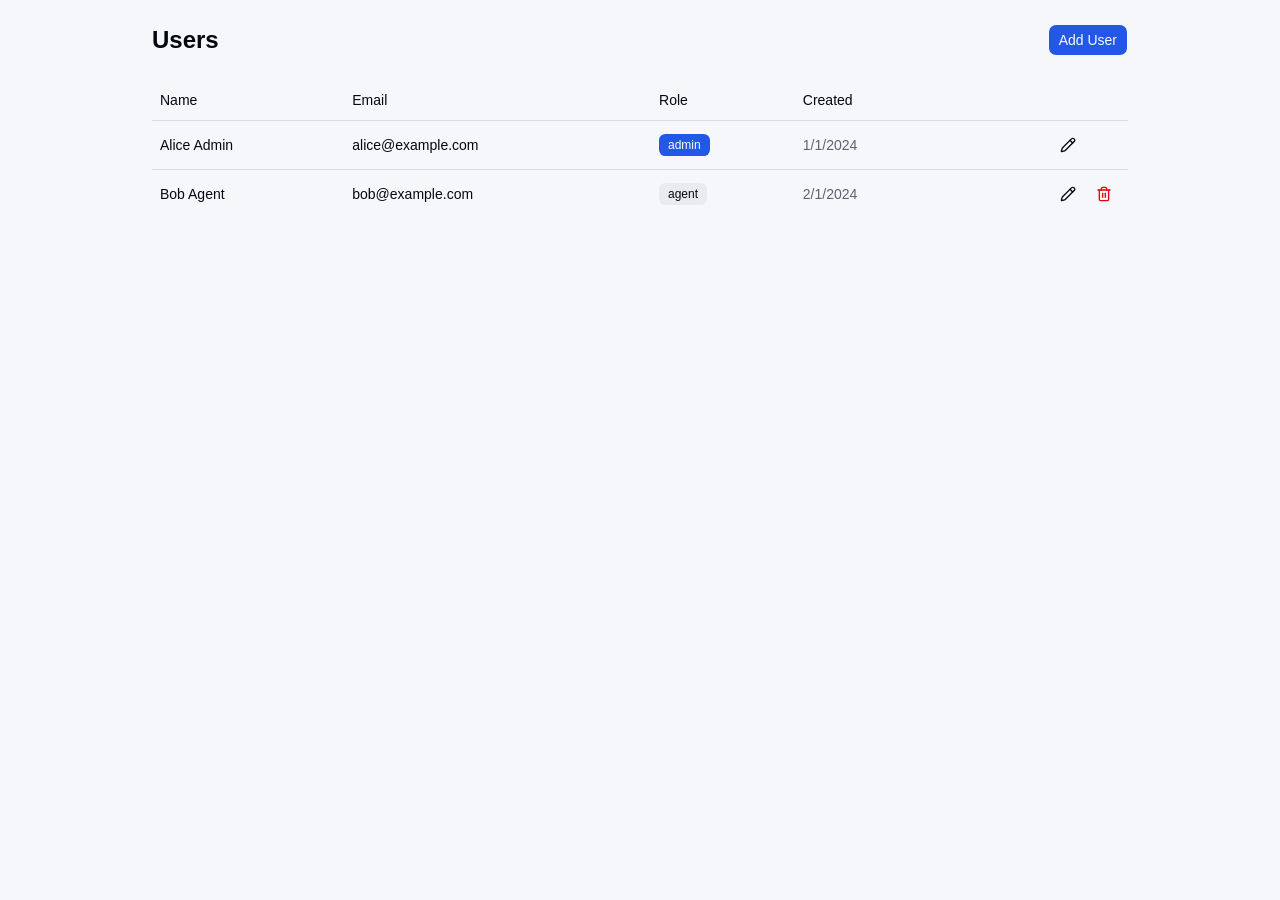
Test: UsersPage › edit dialog › closes the edit dialog when Escape is pressed
Expected: the text "Alice Admin" is shown, [152,120,344,169]
Click the button named "edit alice admin" at coordinates (1068, 144), box [1052,128,1084,160]
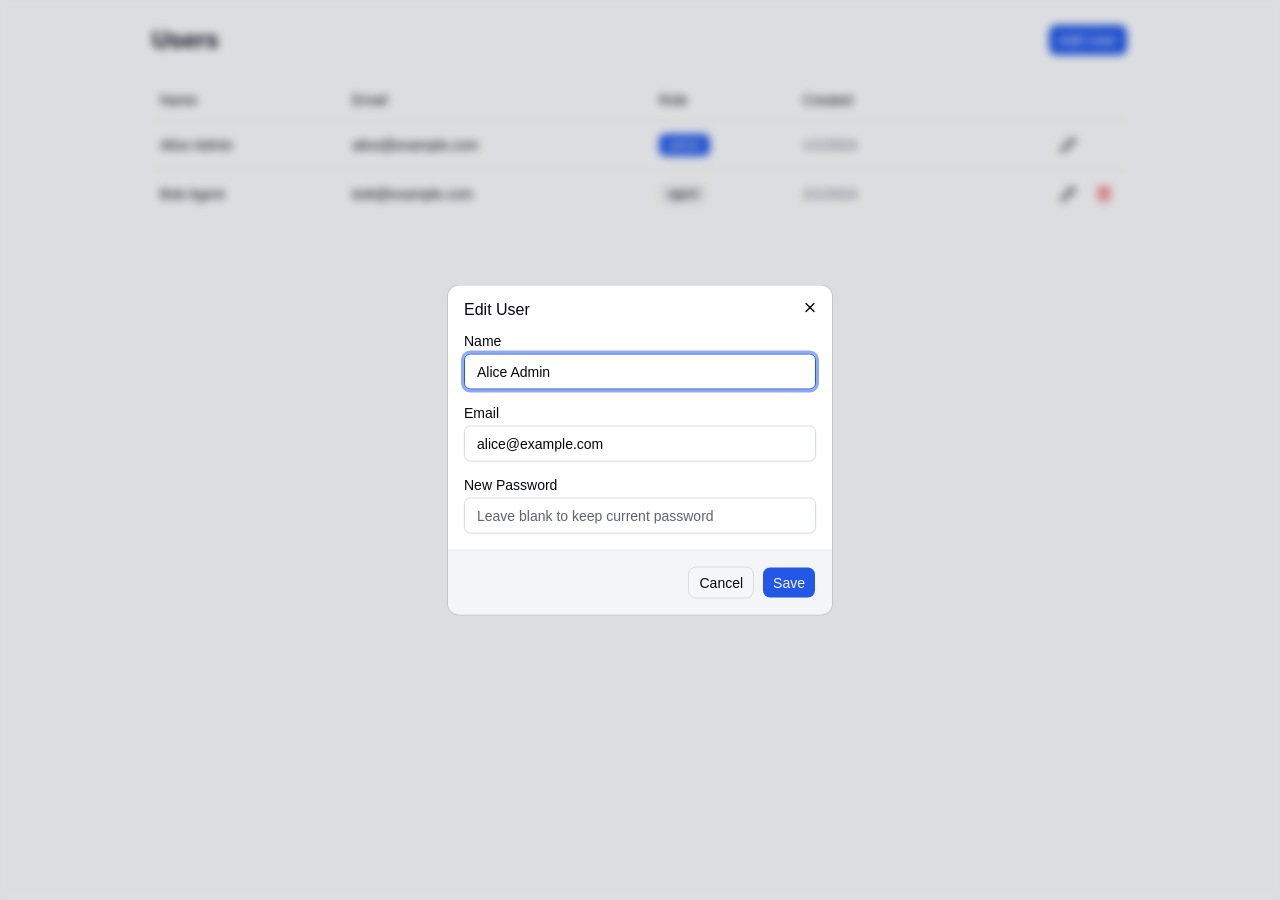
Press Escape
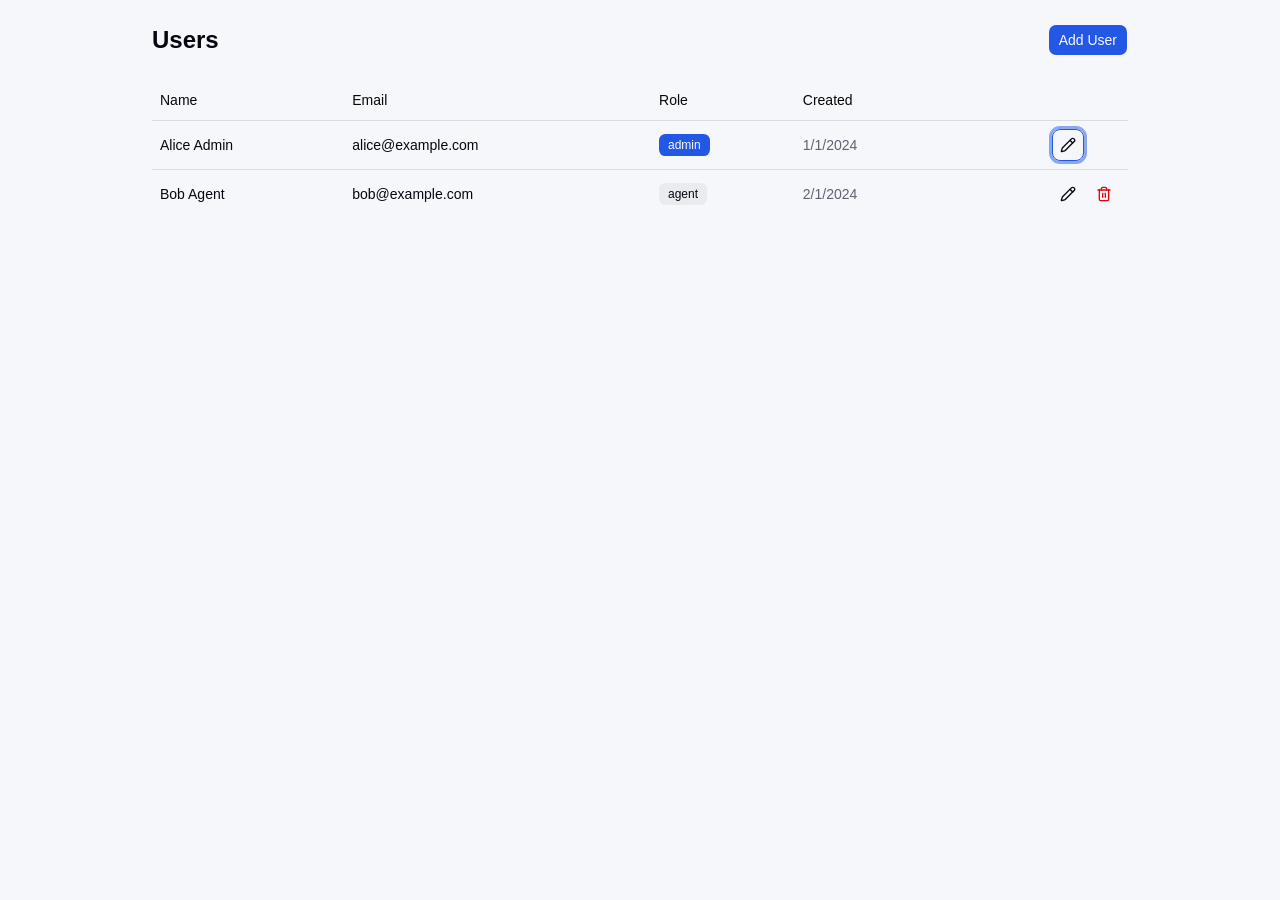
Now the dialog is gone
